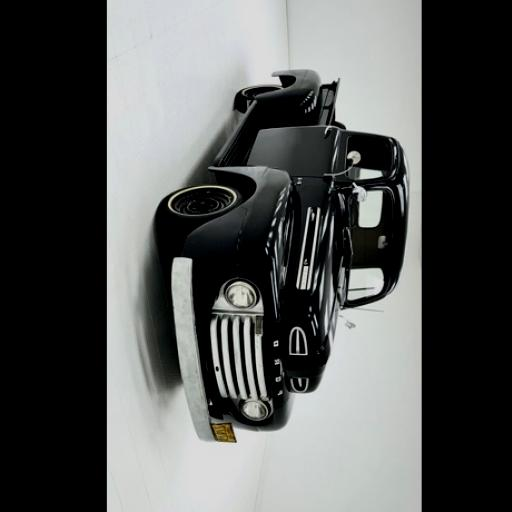truck: (157, 71, 408, 443)
